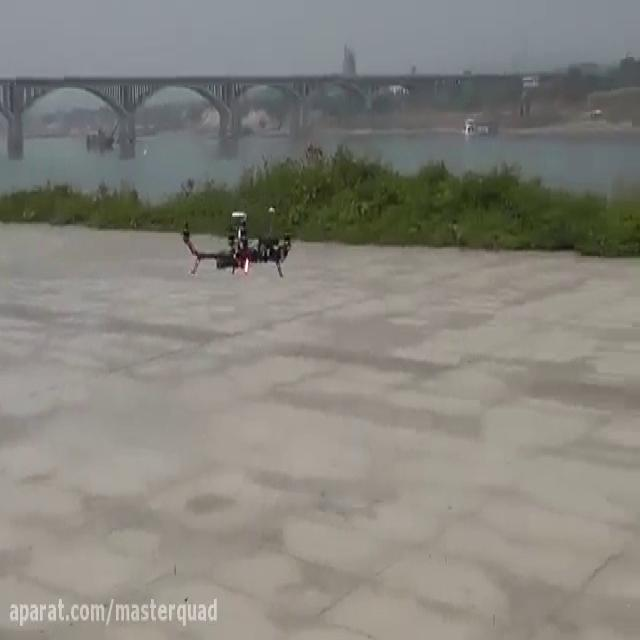drone: (178, 203, 294, 281)
